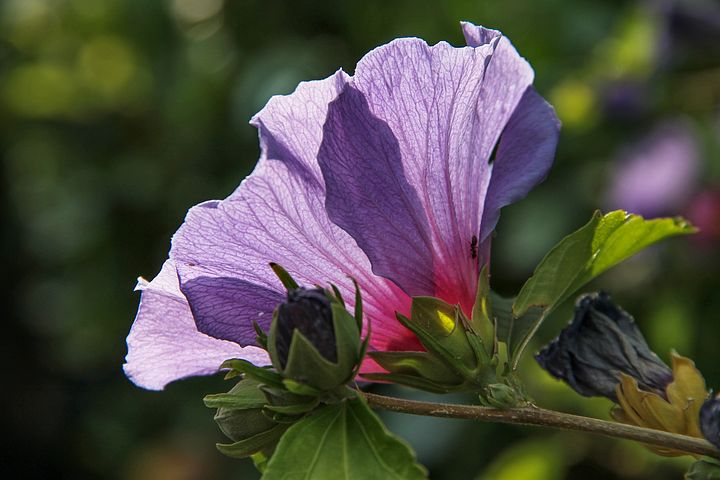Hibiscus: (104, 11, 639, 435), (547, 262, 701, 452), (253, 235, 385, 403)
